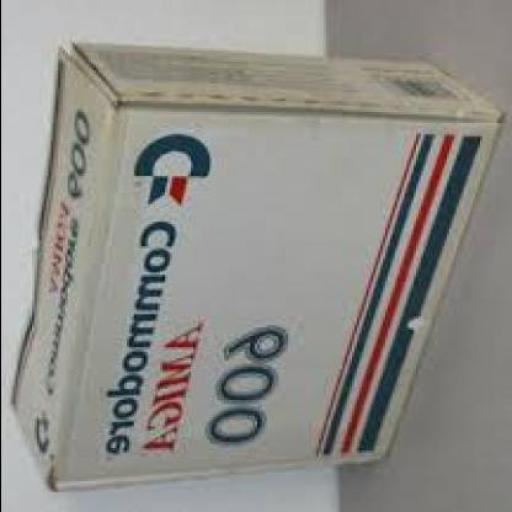cardboard: (5, 42, 497, 487)
